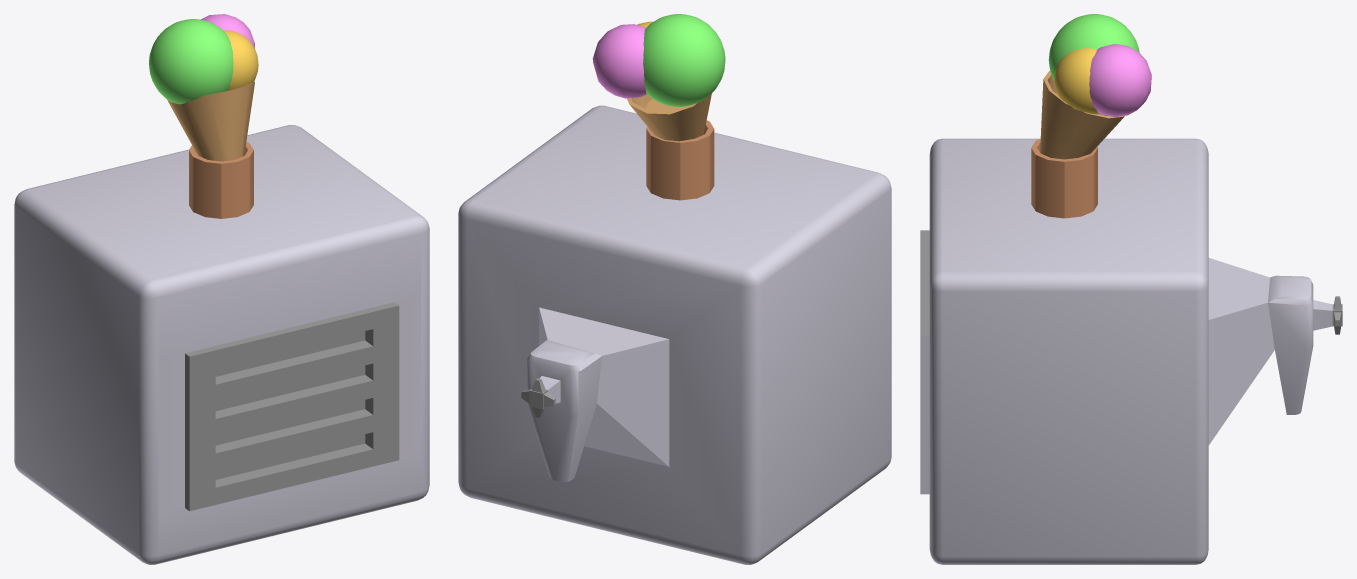
File: IceCream.fbx
The picture shows the model from 3 angles, left to right: view 1: azimuth 30°, elevation 25°; view 2: azimuth 150°, elevation 25°; view 3: azimuth 270°, elevation 25°; orthographic projection. The views are drawn at different scales.
Parts seen in each view (by area): view 1: Cube.012, Cylinder.002, Cylinder.001; view 2: Cube.012, Cylinder.002, Cylinder.001; view 3: Cube.012, Cylinder.002, Cylinder.001.
Boxes of the visible parts, x1=… form: Cube.012: x1=14, y1=125, x2=429, y2=564; Cylinder.002: x1=149, y1=14, x2=258, y2=161; Cylinder.001: x1=189, y1=142, x2=253, y2=218; Cube.012: x1=458, y1=105, x2=891, y2=564; Cylinder.002: x1=592, y1=14, x2=725, y2=141; Cylinder.001: x1=646, y1=120, x2=714, y2=200; Cube.012: x1=920, y1=138, x2=1342, y2=564; Cylinder.002: x1=1040, y1=14, x2=1151, y2=159; Cylinder.001: x1=1031, y1=139, x2=1097, y2=218.
Bounding box in the file's own units: 119 × 181 × 147.
